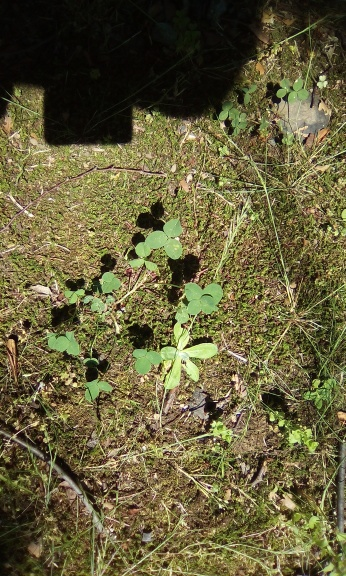4leaf: (183, 281, 224, 316)
